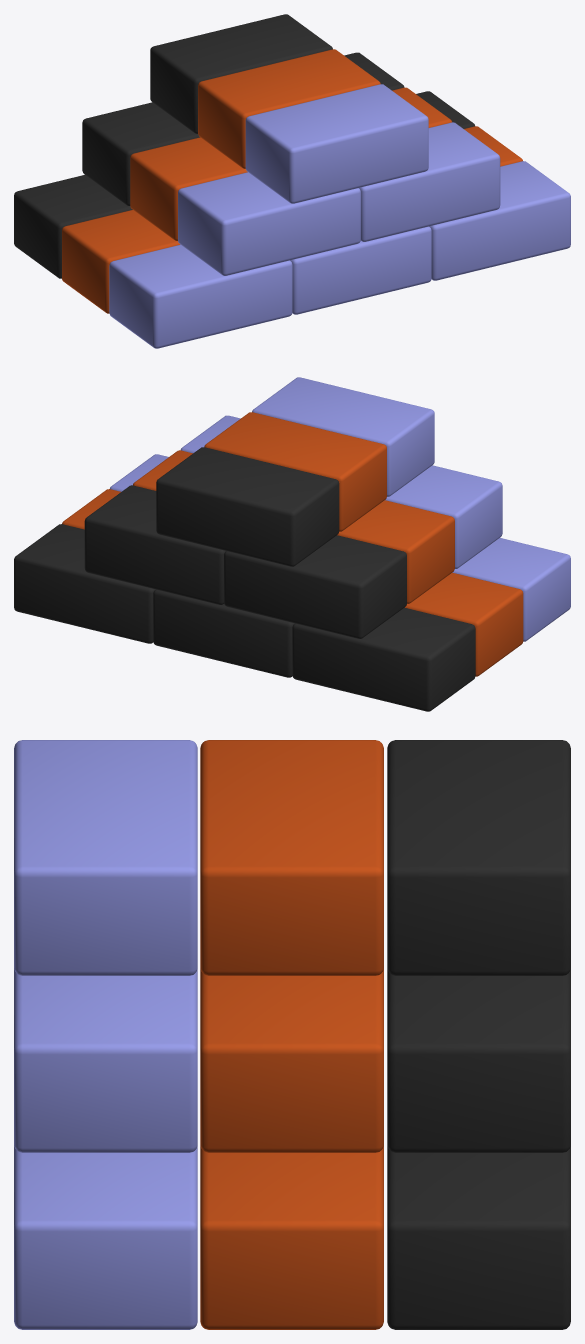
File: boxes.glb
The picture shows the model from 3 angles, top to bottom: view 1: azimuth 30°, elevation 25°; view 2: azimuth 150°, elevation 25°; view 3: azimuth 270°, elevation 25°; orthographic projection. The views are drawn at different scales.
Parts seen in each view (by area): view 1: Cube.040, Cube.043, Cube.046, Cube.048, Cube.047, Cube.045, Cube.044, Cube.041, Cube.042; view 2: Cube.042, Cube.045, Cube.048, Cube.047, Cube.046, Cube.041, Cube.044, Cube.043, Cube.040; view 3: Cube.047, Cube.046, Cube.048, Cube.041, Cube.044, Cube.042, Cube.040, Cube.043, Cube.045.
Boxes of the visible parts, x1,y1,x2,y2 form: Cube.040: (109,161,570,348); Cube.043: (178,122,500,275); Cube.046: (245,84,428,203); Cube.048: (150,14,332,133); Cube.047: (198,49,380,168); Cube.045: (82,52,404,205); Cube.044: (130,87,451,240); Cube.041: (62,126,522,313); Cube.042: (14,91,474,278); Cube.042: (14,524,475,711); Cube.045: (84,485,406,638); Cube.048: (156,447,339,566); Cube.047: (204,412,386,531); Cube.046: (252,377,434,496); Cube.041: (62,489,523,676); Cube.044: (133,450,454,603); Cube.043: (180,415,502,568); Cube.040: (110,454,570,641); Cube.047: (200,740,383,975); Cube.046: (14,740,197,975); Cube.048: (387,740,570,975); Cube.041: (200,1145,383,1329); Cube.044: (200,968,383,1152); Cube.042: (387,1145,570,1329); Cube.040: (14,1145,197,1329); Cube.043: (14,968,197,1152); Cube.045: (387,968,570,1152).
Size of the model in its own units: 1.66 by 0.6352 by 0.98.
